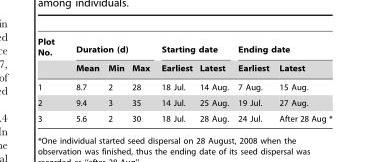table: (36, 37, 331, 122)
table column: (273, 37, 331, 122), (154, 37, 195, 122), (232, 37, 273, 122), (64, 37, 103, 122), (195, 37, 232, 122), (36, 37, 64, 122), (127, 37, 154, 122), (103, 37, 127, 122)
table column header: (36, 37, 331, 77)
table row: (36, 37, 331, 60), (36, 60, 331, 77), (36, 77, 331, 94), (36, 94, 331, 110), (36, 110, 331, 122)
table spanning cell: (232, 37, 331, 60), (64, 37, 154, 60), (154, 37, 232, 60), (36, 37, 64, 77)
